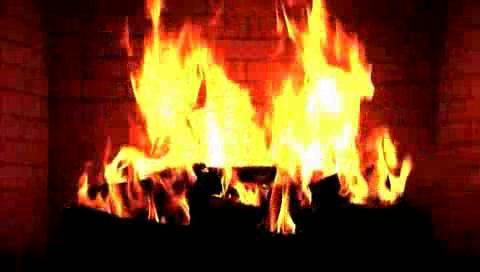fire: (120, 11, 408, 237)
